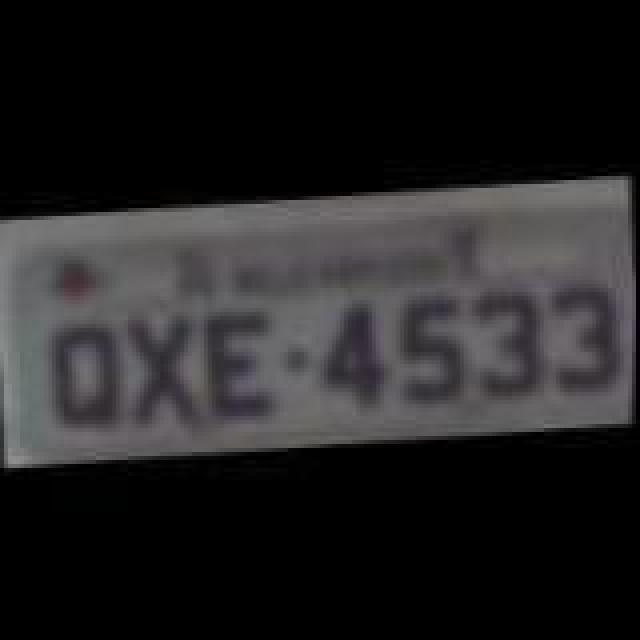3: (538, 274, 630, 406), (468, 282, 556, 406)
4: (308, 292, 396, 420)
5: (390, 282, 482, 410)
E: (202, 302, 286, 422)
Q: (42, 316, 138, 436)
X: (120, 308, 208, 432)
